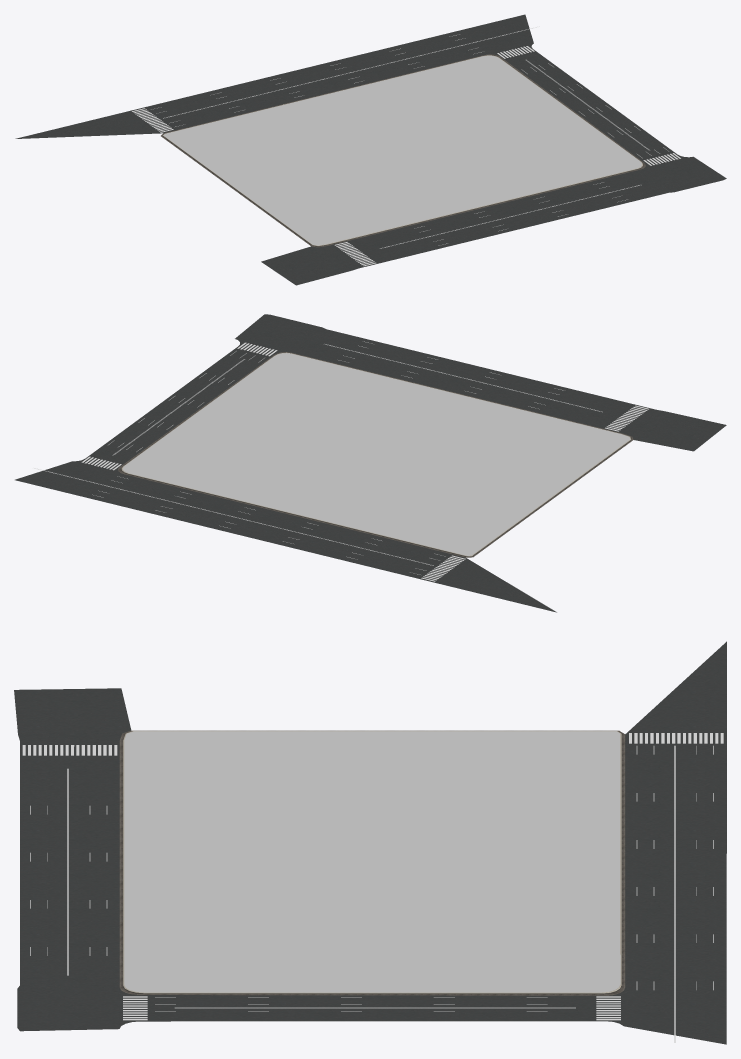
Rendered from Island_Area_02.fbx.
The picture shows the model from 3 angles, top to bottom: view 1: azimuth 30°, elevation 25°; view 2: azimuth 150°, elevation 25°; view 3: azimuth 270°, elevation 25°; orthographic projection. The views are drawn at different scales.
Visible parts, largest first — view 1: Island_Area_02, Terrain_NY_Asphalt.026, Terrain_NY_Marking.030, Terrain_NY_Marking.023, Terrain_NY_Marking.024; view 2: Island_Area_02, Terrain_NY_Asphalt.026, Terrain_NY_Marking.030, Terrain_NY_Marking.023, Terrain_NY_Marking.024; view 3: Island_Area_02, Terrain_NY_Asphalt.026, Terrain_NY_Marking.024, Terrain_NY_Marking.030, Terrain_NY_Marking.023.
Part boxes in pixels (x1,y1,x2,y2): Island_Area_02: (161,54,645,247); Terrain_NY_Asphalt.026: (15,14,726,285); Terrain_NY_Marking.030: (132,26,539,132); Terrain_NY_Marking.023: (334,182,641,266); Terrain_NY_Marking.024: (497,46,680,165); Island_Area_02: (118,352,633,557); Terrain_NY_Asphalt.026: (15,314,726,612); Terrain_NY_Marking.030: (34,468,465,581); Terrain_NY_Marking.023: (325,341,648,431); Terrain_NY_Marking.024: (81,342,277,470); Island_Area_02: (119,730,625,995); Terrain_NY_Asphalt.026: (14,641,726,1044); Terrain_NY_Marking.024: (123,996,620,1020); Terrain_NY_Marking.030: (629,733,723,1042); Terrain_NY_Marking.023: (22,745,117,975).
Size of the model in its own units: 15801 by 15.61 by 11805.
